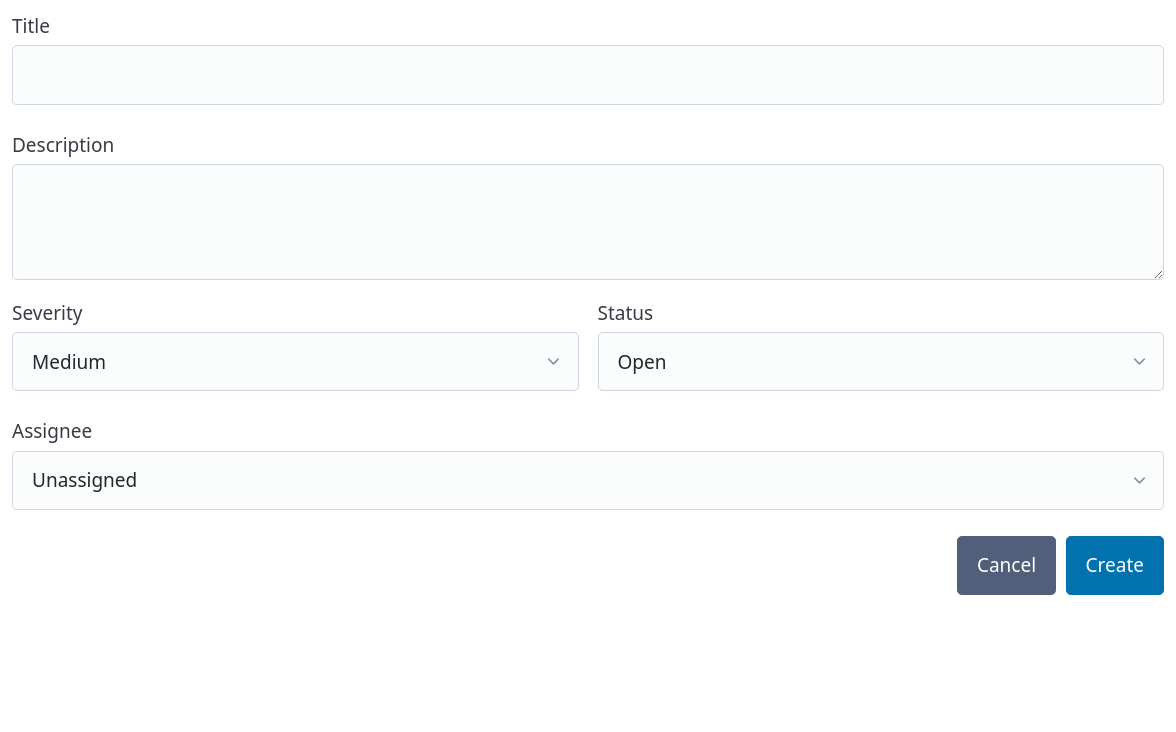
Test case: IncidentForm › shows the backend error and stays open
Type "Login page is down" into the field labelled "Title". click: x=588, y=75
box: [12,45,1164,105]
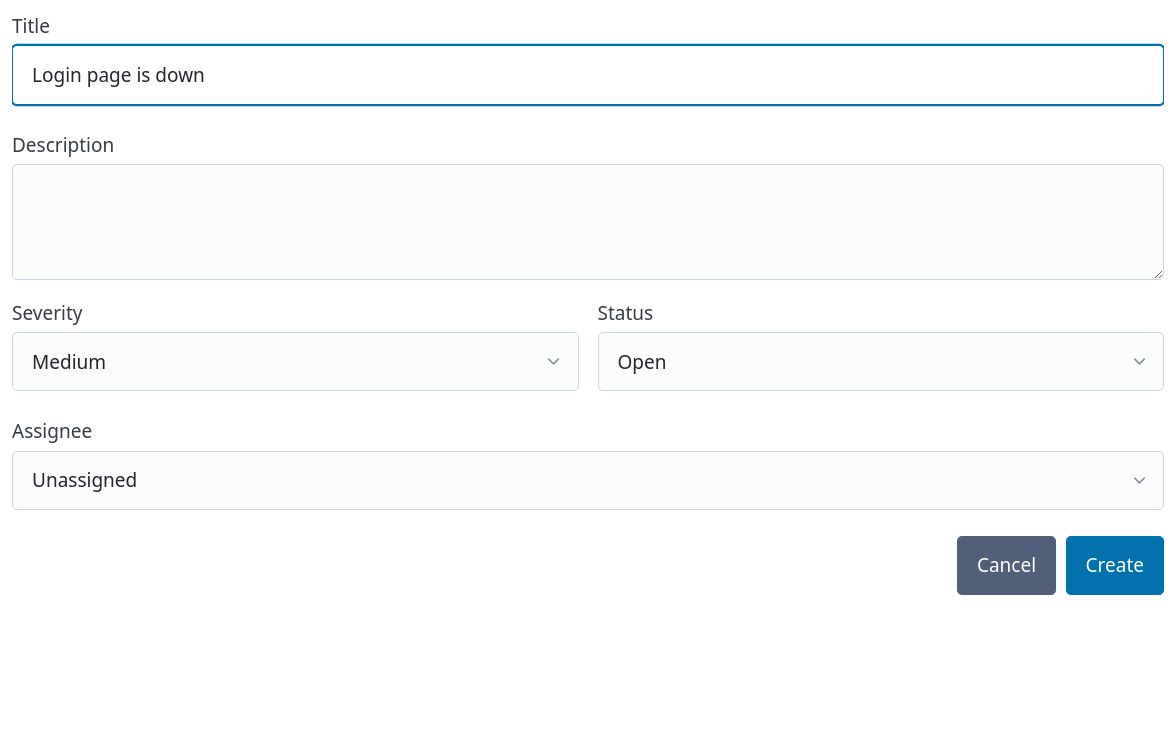
Click the button "Create". click: x=1115, y=565
box: [1066,536,1164,595]
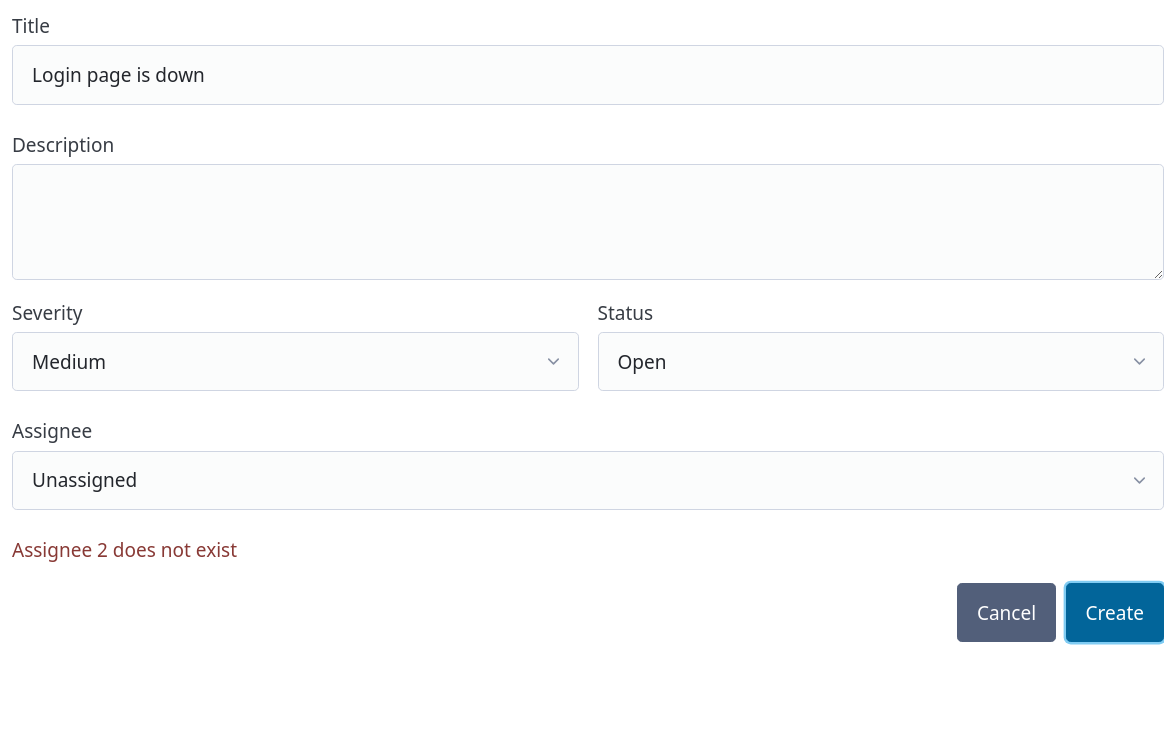
Expected: the message reads "Assignee 2 does not exist", [12,537,237,563]
